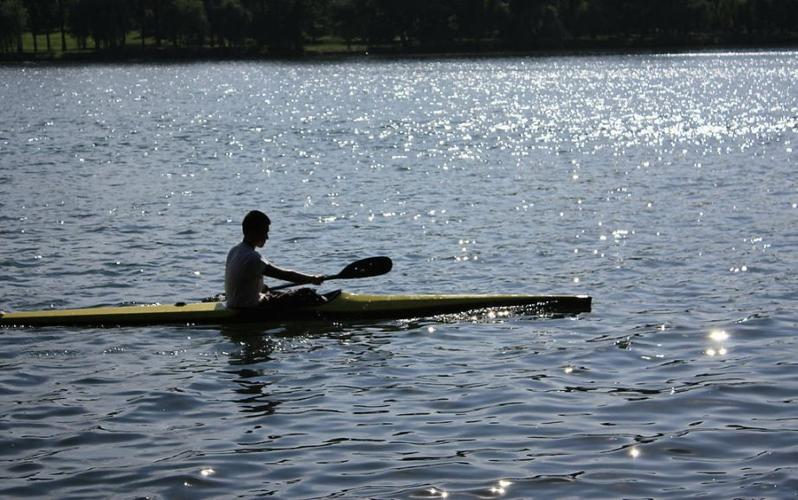person: (224, 210, 330, 310)
